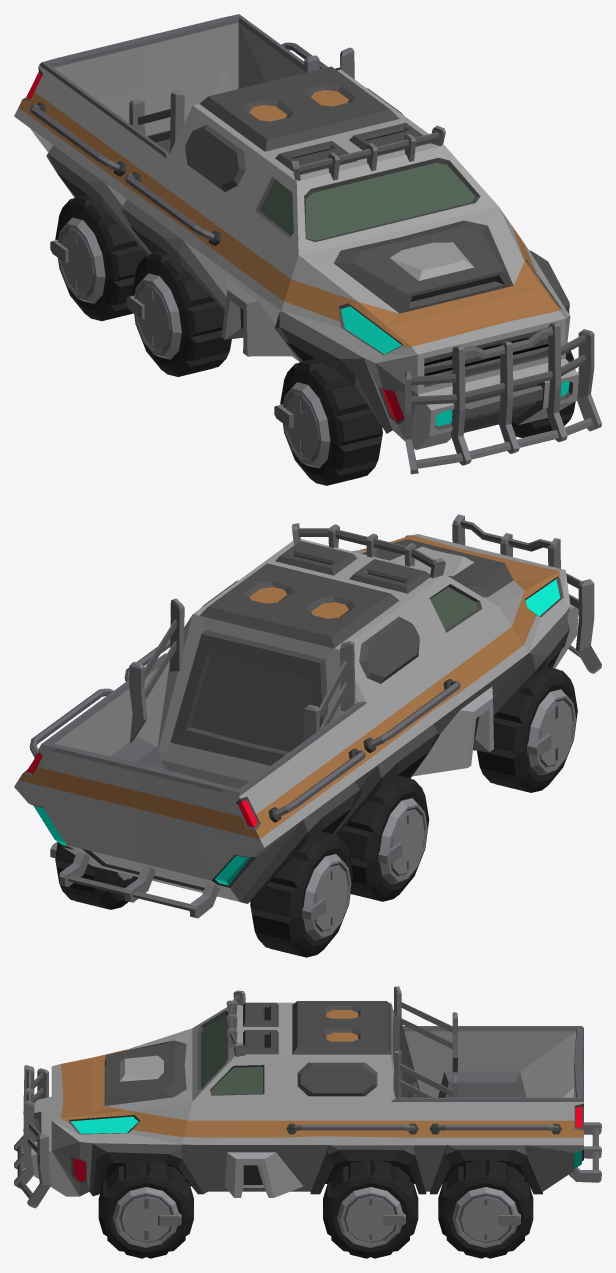
The model's file is city_SM_Veh_Armored_Truck_02.gltf.
3 renders of one model, top to bottom at view 1: azimuth 30°, elevation 25°; view 2: azimuth 150°, elevation 25°; view 3: azimuth 270°, elevation 25°, orthographic. The views are drawn at different scales.
Visible parts, largest first — view 1: SM_Veh_Armored_Truck_02, SM_Veh_Armored_Truck_02_Wheel_fr, SM_Veh_Armored_Truck_02_Glass, SM_Veh_Armored_Truck_02_Wheel_fl; view 2: SM_Veh_Armored_Truck_02, SM_Veh_Armored_Truck_02_Wheel_fr, SM_Veh_Armored_Truck_02_Glass; view 3: SM_Veh_Armored_Truck_02, SM_Veh_Armored_Truck_02_Wheel_fl, SM_Veh_Armored_Truck_02_Glass.
Part boxes in pixels (x1,y1,x2,y2): SM_Veh_Armored_Truck_02: (14,14,601,474); SM_Veh_Armored_Truck_02_Wheel_fr: (274,358,382,485); SM_Veh_Armored_Truck_02_Glass: (260,162,475,240); SM_Veh_Armored_Truck_02_Wheel_fl: (511,342,575,437); SM_Veh_Armored_Truck_02: (14,514,601,957); SM_Veh_Armored_Truck_02_Wheel_fr: (477,666,577,792); SM_Veh_Armored_Truck_02_Glass: (430,587,477,630); SM_Veh_Armored_Truck_02: (14,986,601,1258); SM_Veh_Armored_Truck_02_Wheel_fl: (98,1163,193,1258); SM_Veh_Armored_Truck_02_Glass: (201,1014,263,1094).
Bounding box in the file's own units: 2.88 × 2.66 × 7.05.
Materials: 1 (1 with a texture image).
